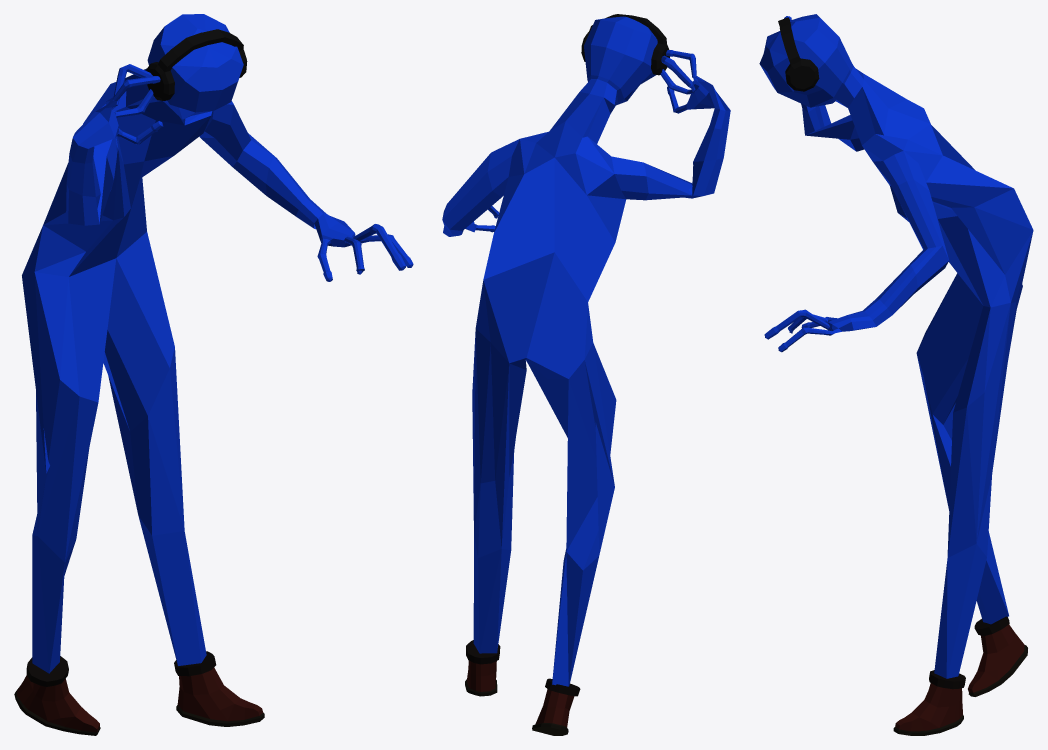
File: dj_anim_p1_f4.obj
3 renders of one model, left to right at view 1: azimuth 30°, elevation 25°; view 2: azimuth 150°, elevation 25°; view 3: azimuth 270°, elevation 25°, orthographic. The views are drawn at different scales.
Visible parts, largest first — view 1: dj_alien, Shoe, Headphones; view 2: dj_alien, Shoe, Headphones; view 3: dj_alien, Shoe, Headphones.
Boxes of the visible parts, box(x1,y1,x2,y2) form: dj_alien: box(22, 14, 413, 673); Shoe: box(14, 651, 264, 735); Headphones: box(146, 29, 247, 100); dj_alien: box(442, 16, 730, 686); Shoe: box(465, 640, 580, 735); Headphones: box(581, 14, 669, 75); dj_alien: box(759, 14, 1033, 678); Shoe: box(893, 616, 1027, 735); Headphones: box(778, 17, 819, 91).
Size of the model in its own units: 0.8845 by 2.01 by 0.7358.
